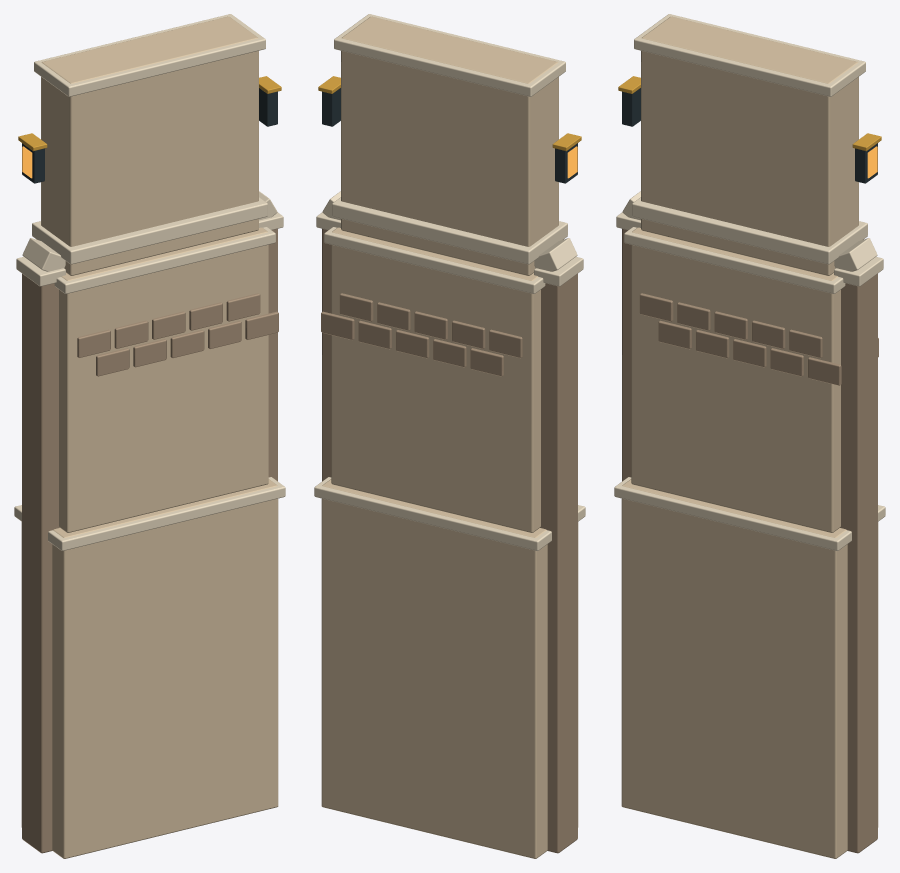
File: rt_pier.glb
3 views of the same model, side by side, from view 1: azimuth 30°, elevation 25°; view 2: azimuth 150°, elevation 25°; view 3: azimuth 330°, elevation 25° (orthographic).
Parts seen in each view (by area): view 1: rt_pier_body; view 2: rt_pier_body; view 3: rt_pier_body.
Boxes of the visible parts, x1=… form: rt_pier_body: x1=14, y1=14, x2=285, y2=858; rt_pier_body: x1=314, y1=14, x2=585, y2=858; rt_pier_body: x1=614, y1=14, x2=885, y2=858.
Bounding box in the file's own units: 11.31 × 33.4 × 3.8.
